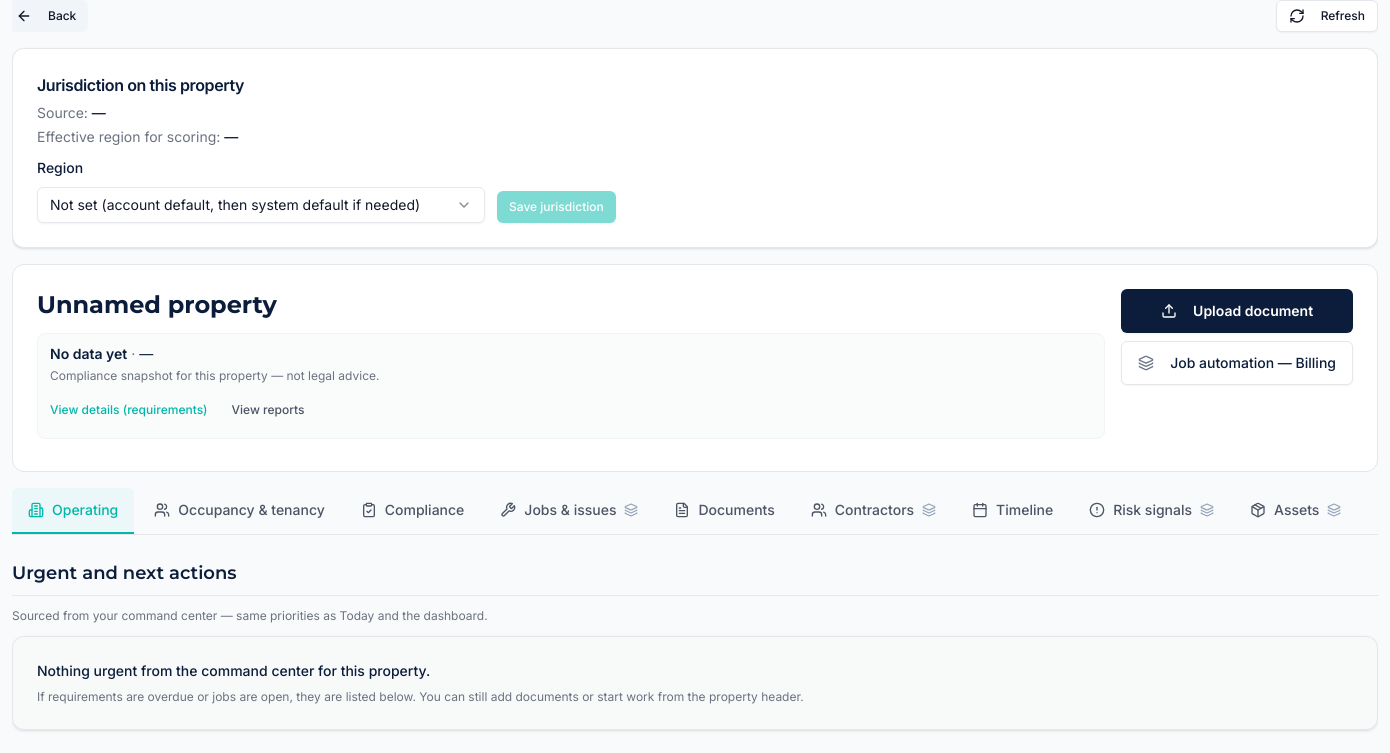
Scenario: PropertyDetailPage compliance action surfaces › disables guided CTA when property and requirement context are both missing from the row
Later steps or results of the test are not shown.
Step 1. Click the button "Compliance" → (413, 511), box [345,488,480,534]
(page scrolled)
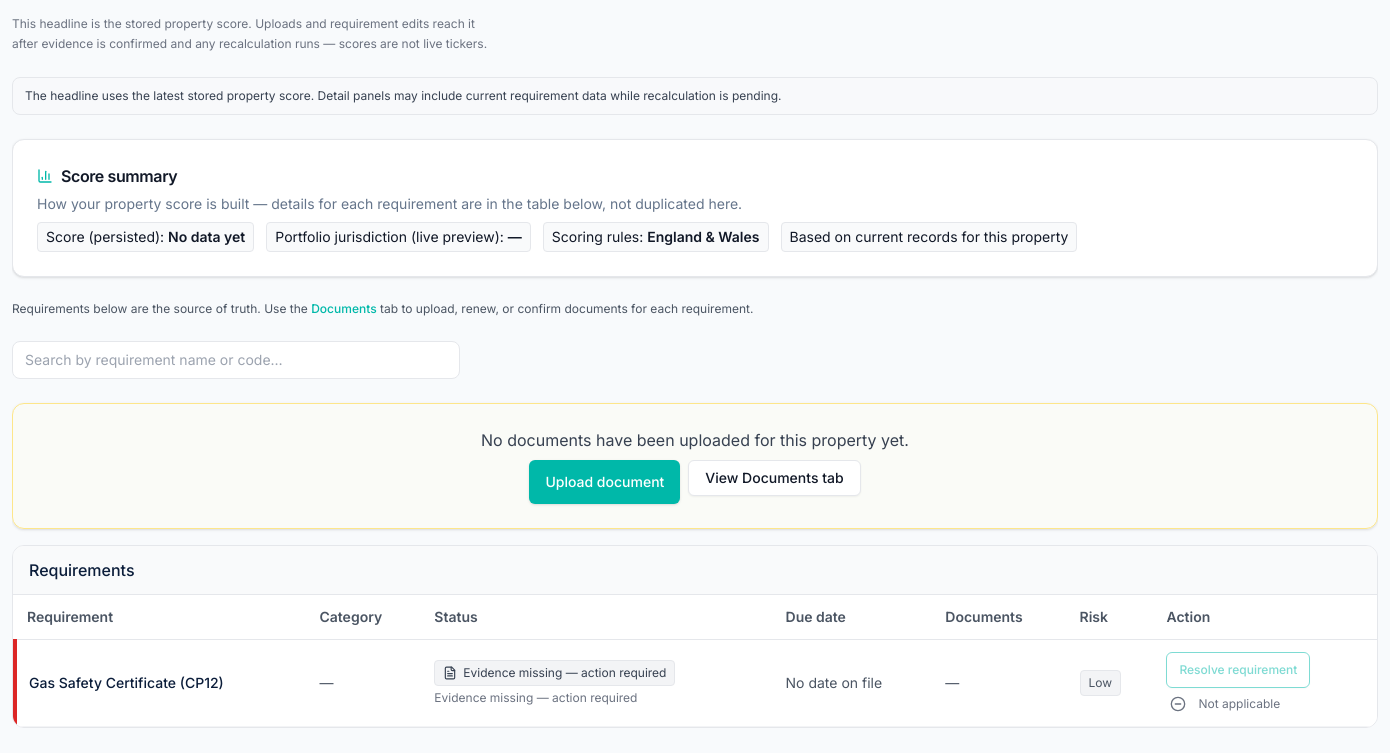
Now the button with test id "compliance-matrix-action-undefined" is disabled, box [1166,652,1310,688]
